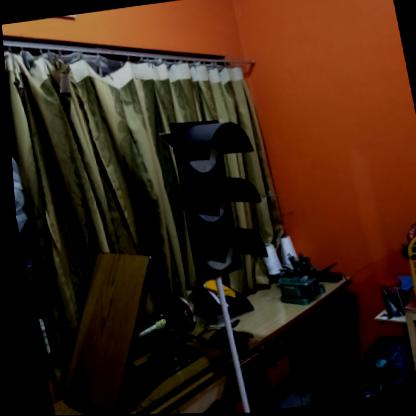green: (165, 113, 269, 280)
